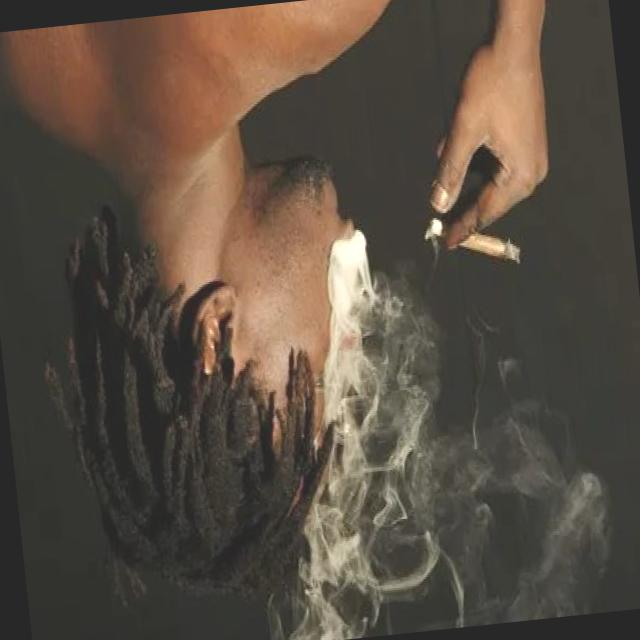cigarette: (423, 202, 526, 276)
